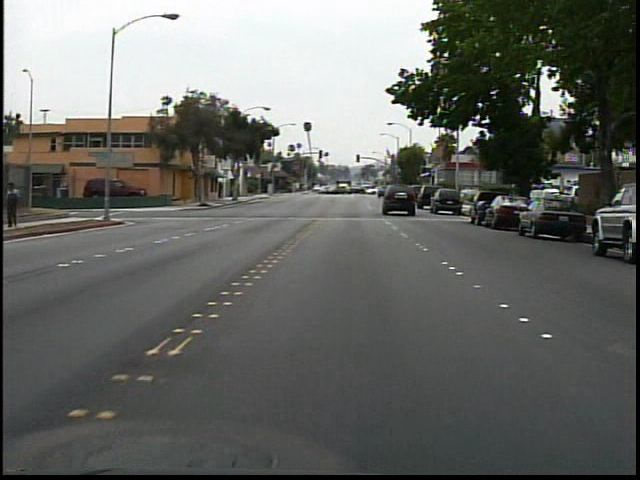person: (5, 181, 29, 231)
